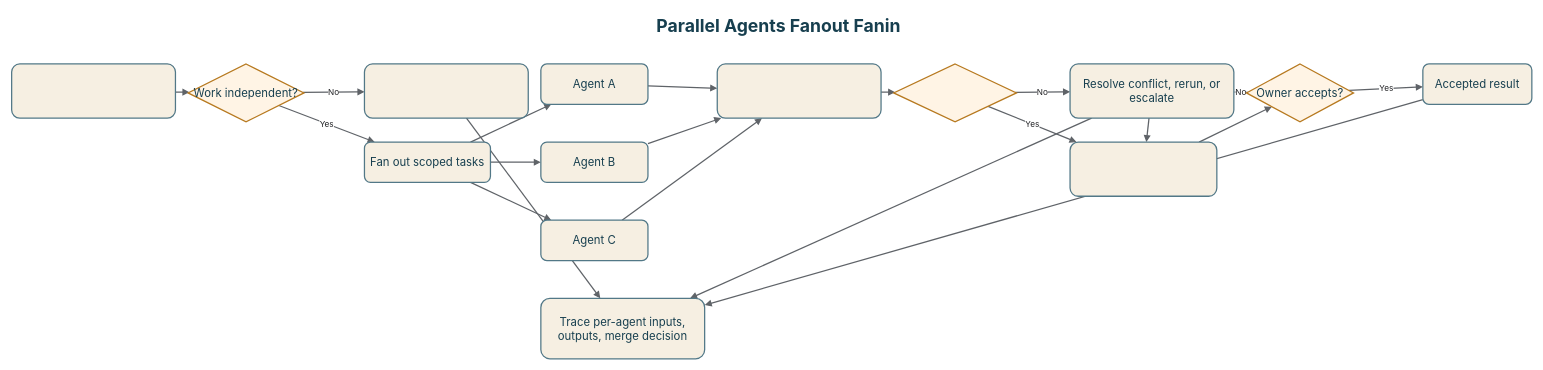
The diagram is 1543 pixels wide and 370 high, and some of its shapes have lost their labels. Each missing label, with the centre of its shape:
Fan in outputs, evidence, cost, latency: the point at 798,90
Merge, rank, or synthesize: the point at 1143,169
Results compatible?: the point at 955,92
Shared goal and acceptance criteria: the point at 93,90
Use sequential workflow or supervisor: the point at 446,90
